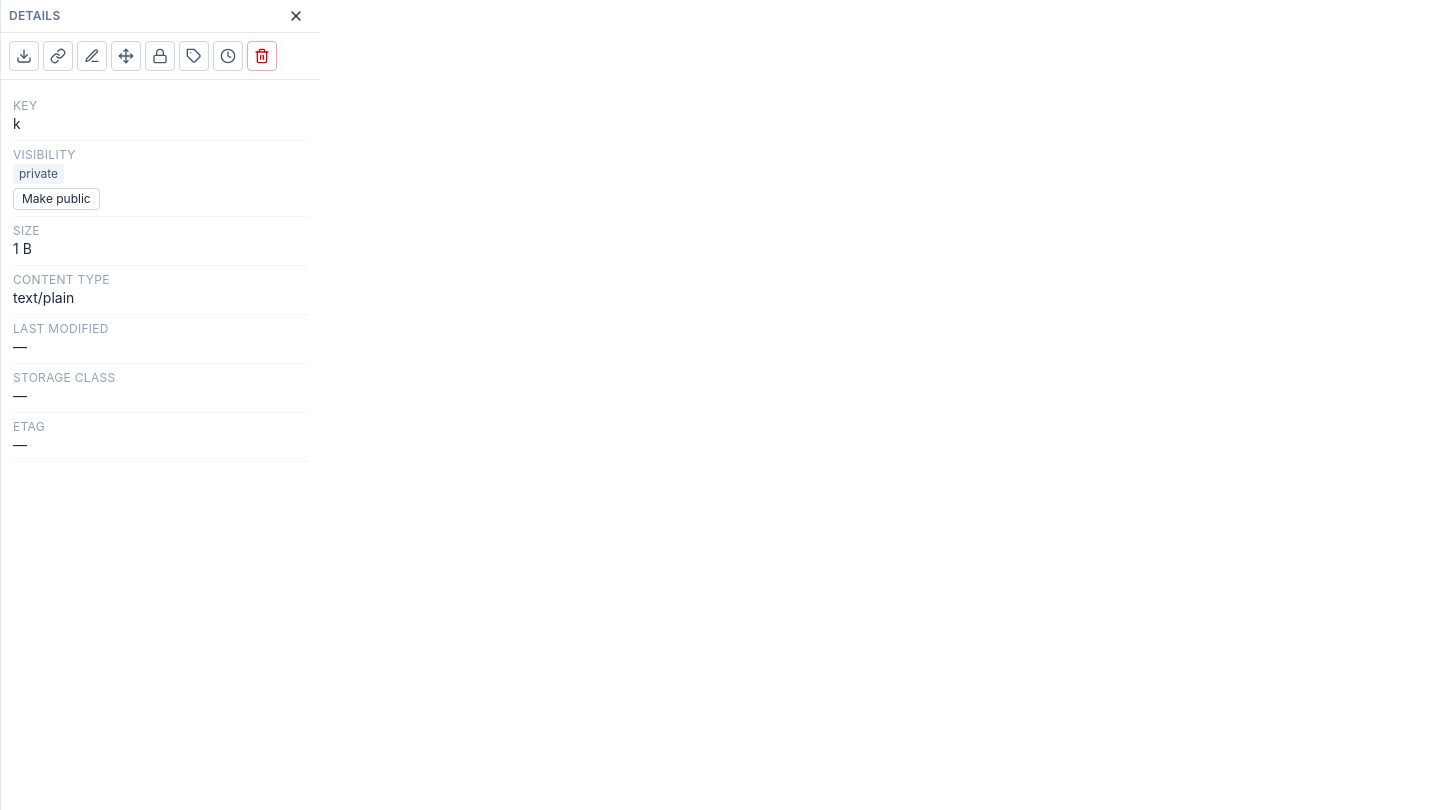
Test: MetadataPanel edit metadata › opens the Edit metadata dialog from the actions row
The width and height of the screenshot is (1440, 810).
Click the button named "Edit metadata…".
click(194, 56)  # box top-left (179, 41), bottom-right (209, 71)
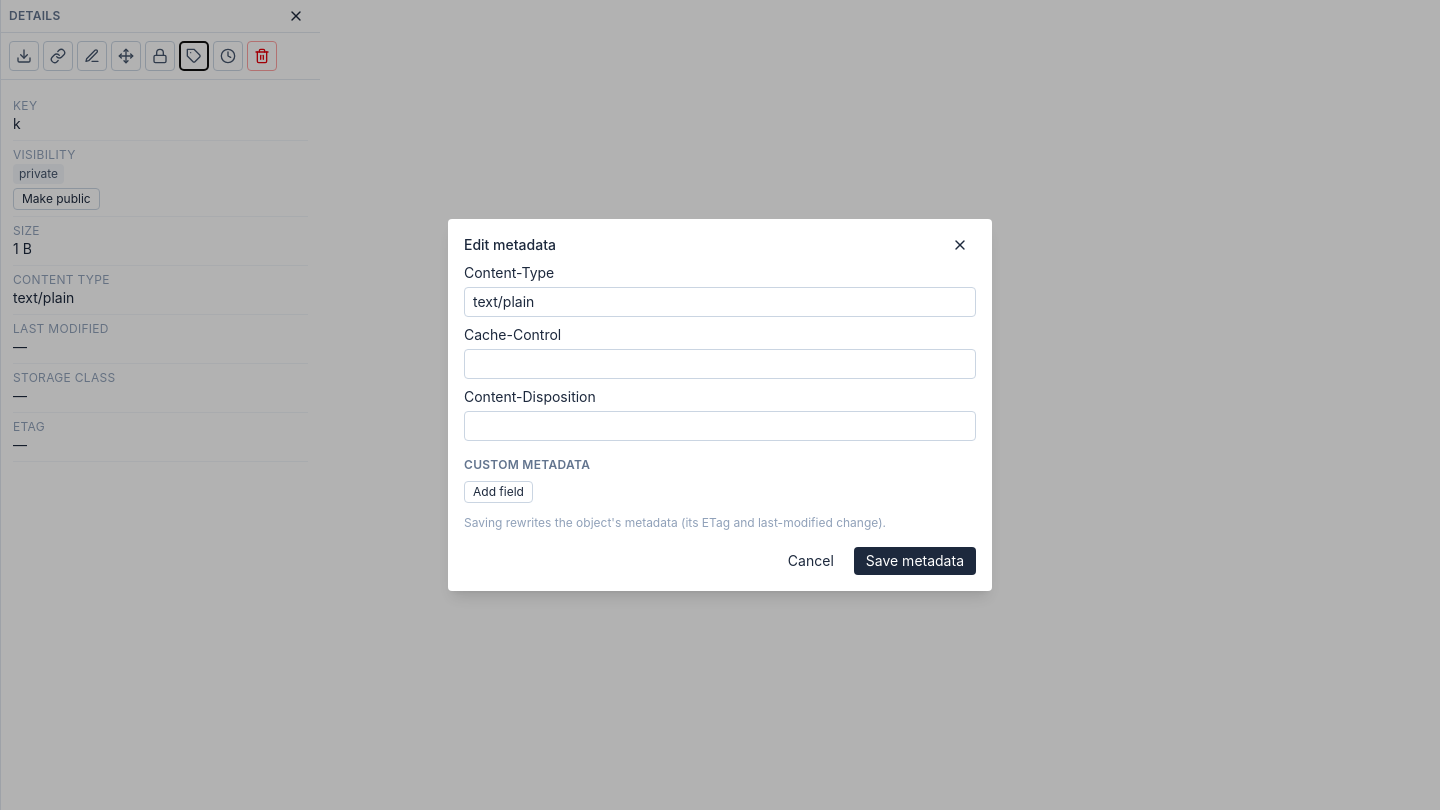
Expected: the text "Edit metadata" is shown, top-left (464, 235), bottom-right (556, 255)
Expected: the field labelled "Content-Type" is shown, top-left (464, 287), bottom-right (976, 317)
